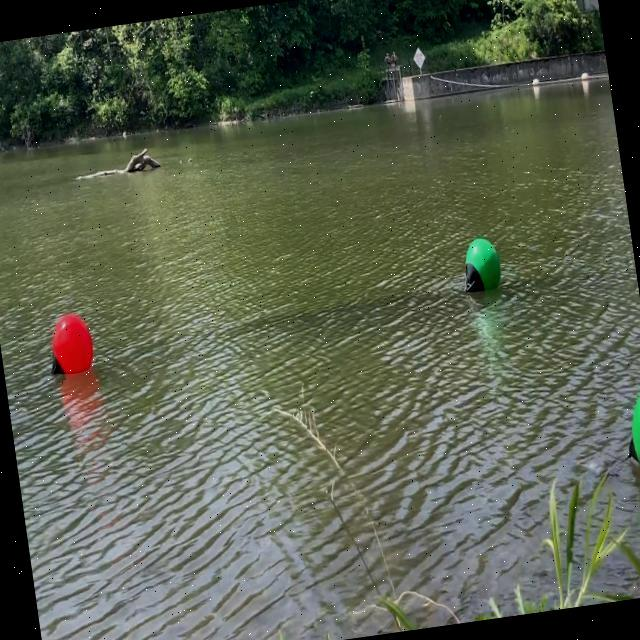buoy: (44, 309, 96, 379), (616, 380, 640, 487), (461, 236, 504, 293)
